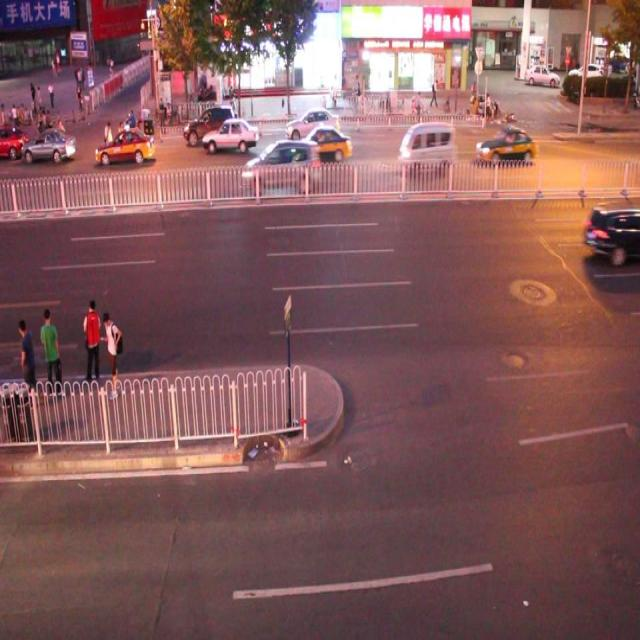car: (242, 140, 318, 192), (584, 198, 640, 262), (475, 124, 535, 166), (290, 126, 351, 163), (95, 128, 155, 165), (201, 115, 258, 153), (183, 105, 237, 144), (20, 127, 77, 162), (284, 107, 340, 141), (1, 124, 28, 158)
truck: (399, 121, 454, 176)
